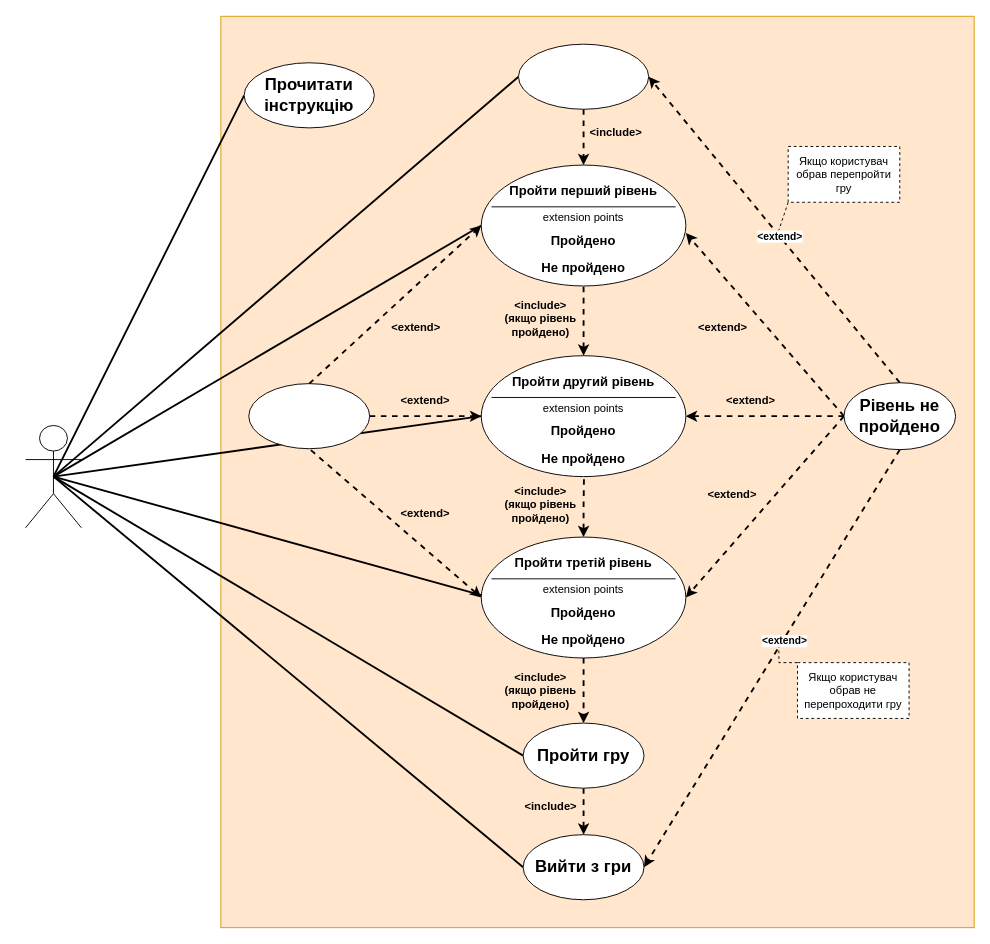
This 990x944 diagram has some shape labels left out. Here are the shapes that lost their labels. From the top down, the box of each, then its label:
(518, 43, 649, 109): Почати гру
(248, 383, 370, 449): Рівень пройдено
(25, 425, 81, 528): Користувач
